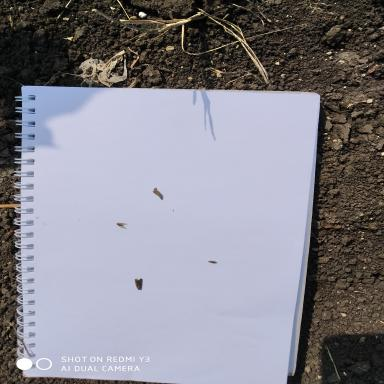pbw: (134, 278, 142, 290), (208, 260, 217, 264)
